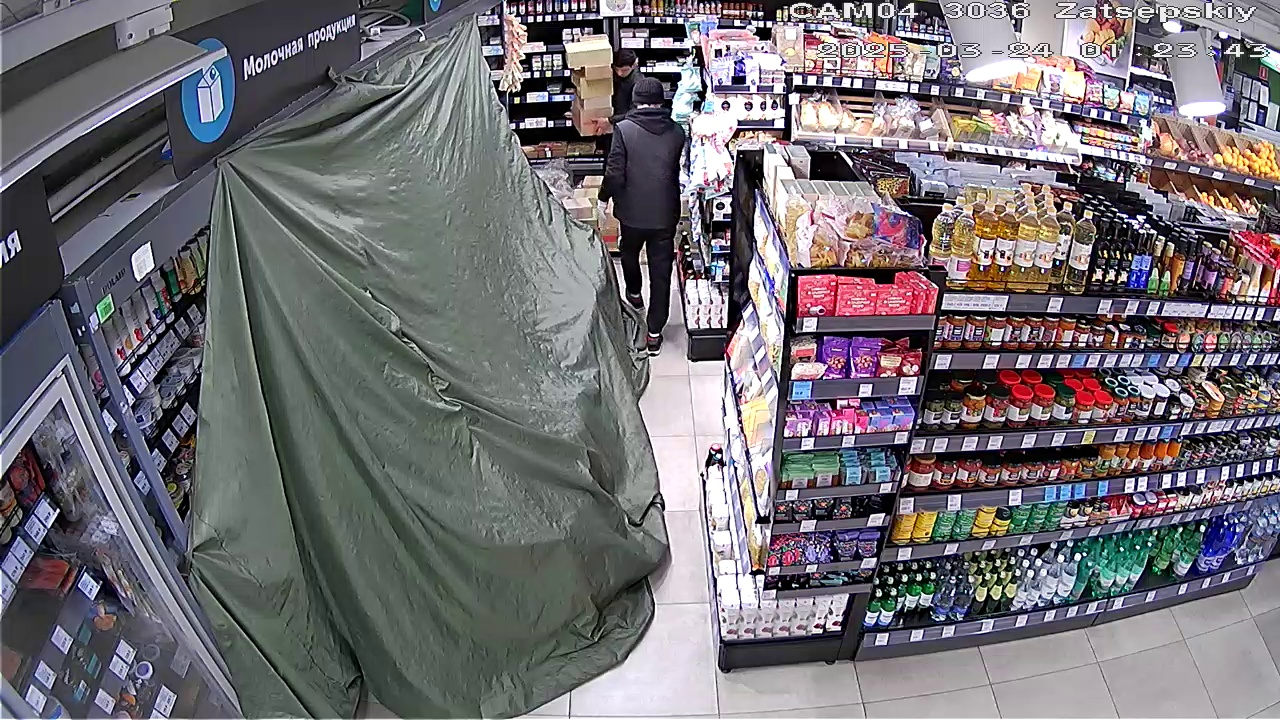Human: (604, 76, 699, 340), (616, 46, 642, 118)
dome: (210, 41, 670, 719)
